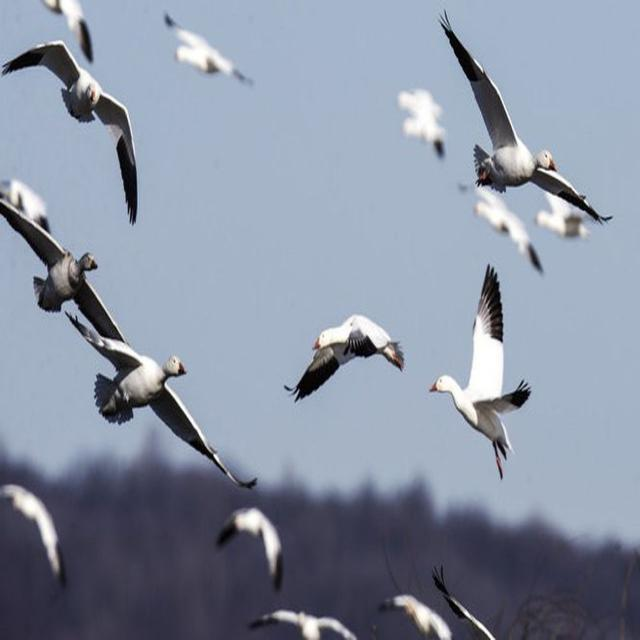bird: (59, 309, 262, 493), (437, 14, 612, 227), (0, 16, 148, 240), (420, 261, 532, 485), (0, 203, 124, 347), (282, 318, 407, 406), (456, 175, 546, 272), (162, 11, 255, 98), (1, 484, 66, 596), (213, 508, 282, 592), (536, 160, 594, 240), (246, 610, 374, 640)
